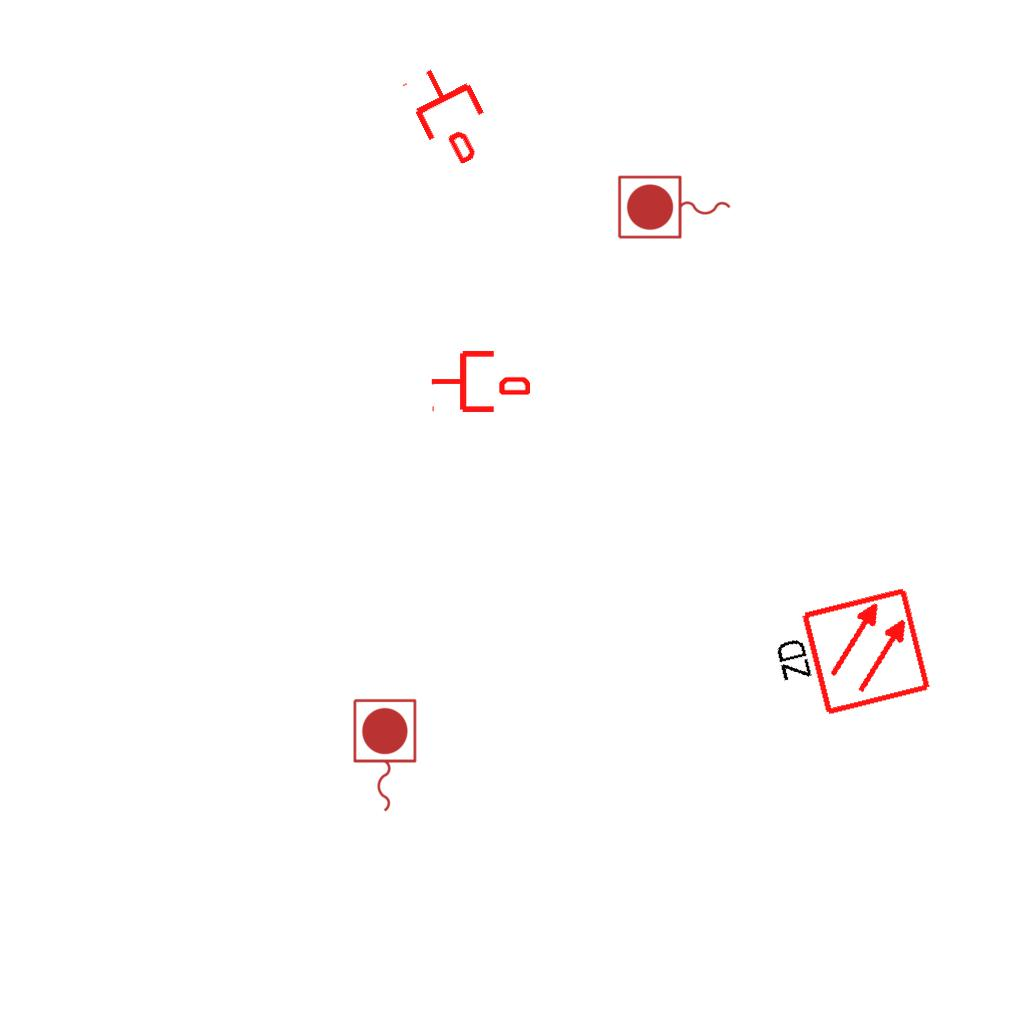Datenanschluss_einfach: (397, 53, 504, 175), (430, 347, 530, 416)
ZD_Melder_in_Zwischendecke_mit_Revisionsoeffnung_mind_40_x_40_cm: (761, 584, 935, 731)
Zugtaster: (348, 695, 420, 817), (614, 172, 736, 244)
